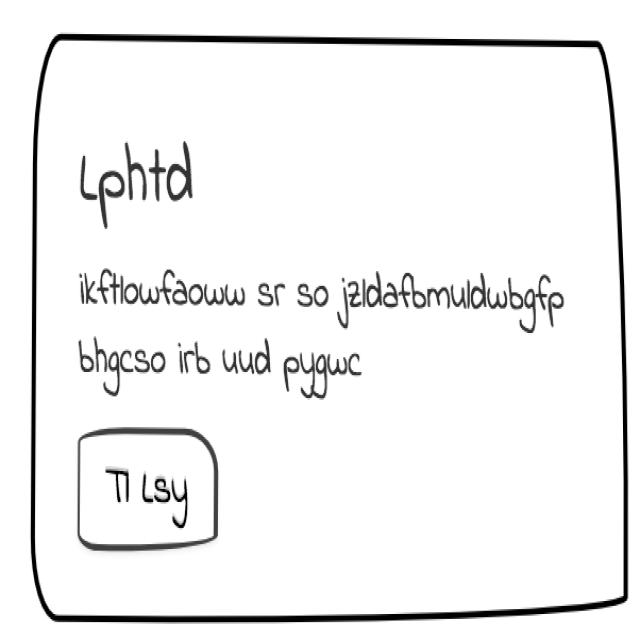Button: (61, 427, 242, 555)
Heading 6: (62, 132, 224, 232)
Paragraph: (67, 266, 577, 405)
